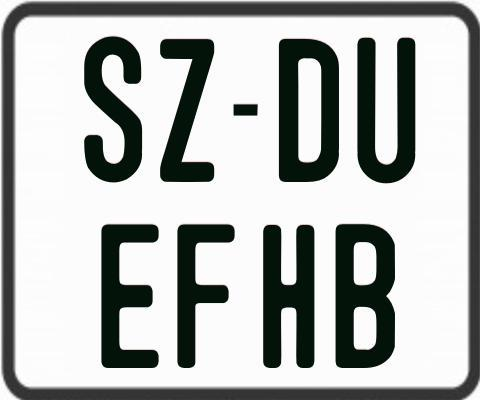B: (335, 221, 400, 366)
D: (277, 37, 342, 186)
E: (98, 221, 159, 370)
F: (174, 221, 232, 367)
H: (260, 224, 311, 371)
S: (83, 34, 146, 185)
U: (356, 36, 419, 186)
Z: (157, 36, 216, 179)
